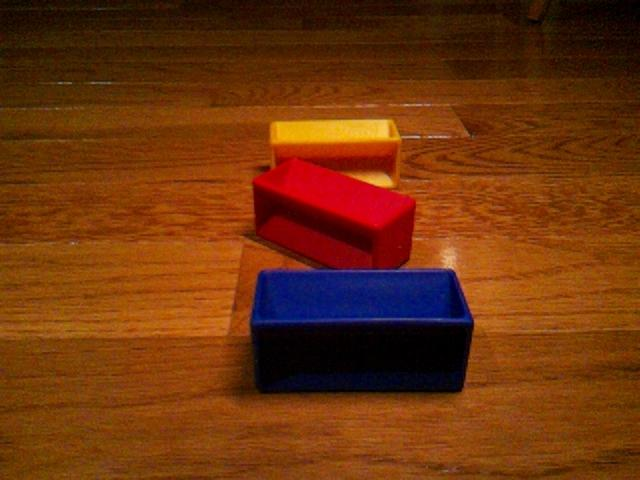blue: (249, 266, 475, 395)
red: (252, 156, 417, 270)
yellow: (268, 118, 403, 189)
